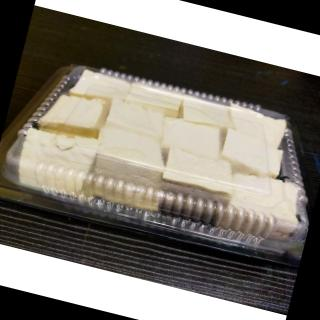Tahu: (16, 47, 320, 260)
